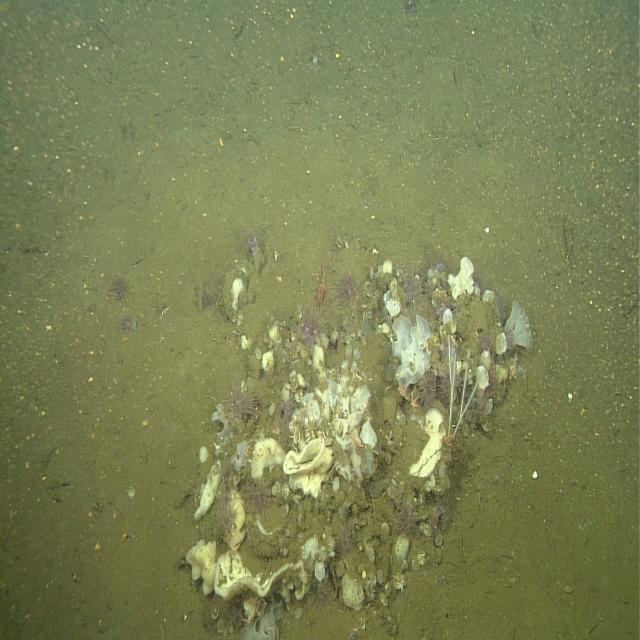Brittle Star: (408, 390, 421, 412)
Not Brittle Star: (213, 548, 297, 608), (389, 313, 434, 393), (281, 434, 335, 498), (406, 404, 449, 484), (452, 354, 486, 437), (193, 455, 226, 523), (184, 534, 214, 598), (224, 373, 262, 422), (504, 296, 534, 356), (250, 437, 284, 482), (295, 302, 325, 351), (448, 256, 479, 300), (446, 332, 458, 438), (334, 270, 360, 312), (417, 370, 440, 411), (340, 571, 364, 610), (333, 516, 355, 558), (395, 498, 417, 537), (309, 342, 326, 380), (385, 294, 402, 320), (313, 559, 326, 583), (442, 306, 453, 326)
